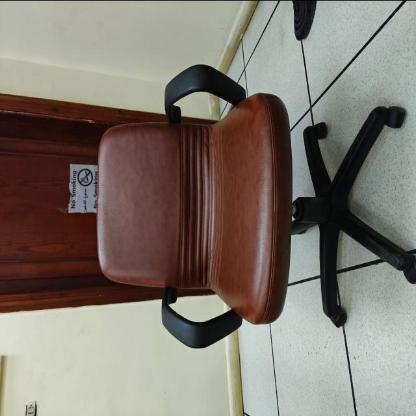chair: (86, 53, 416, 357)
